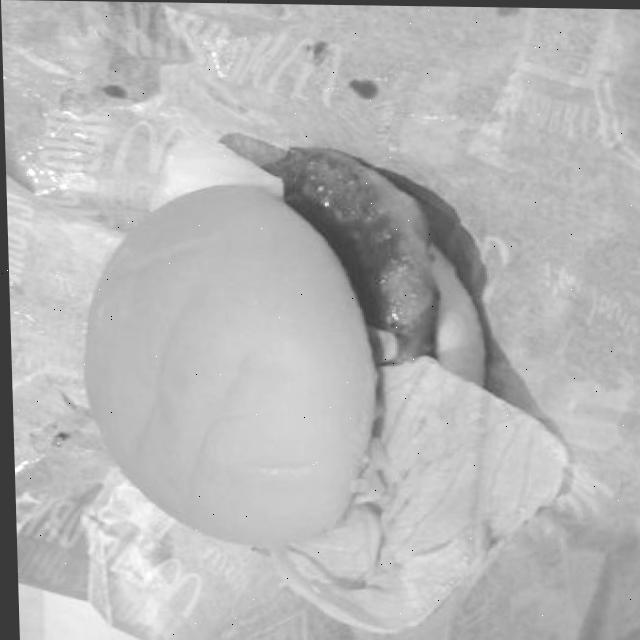汉堡快餐: (44, 110, 536, 615)
